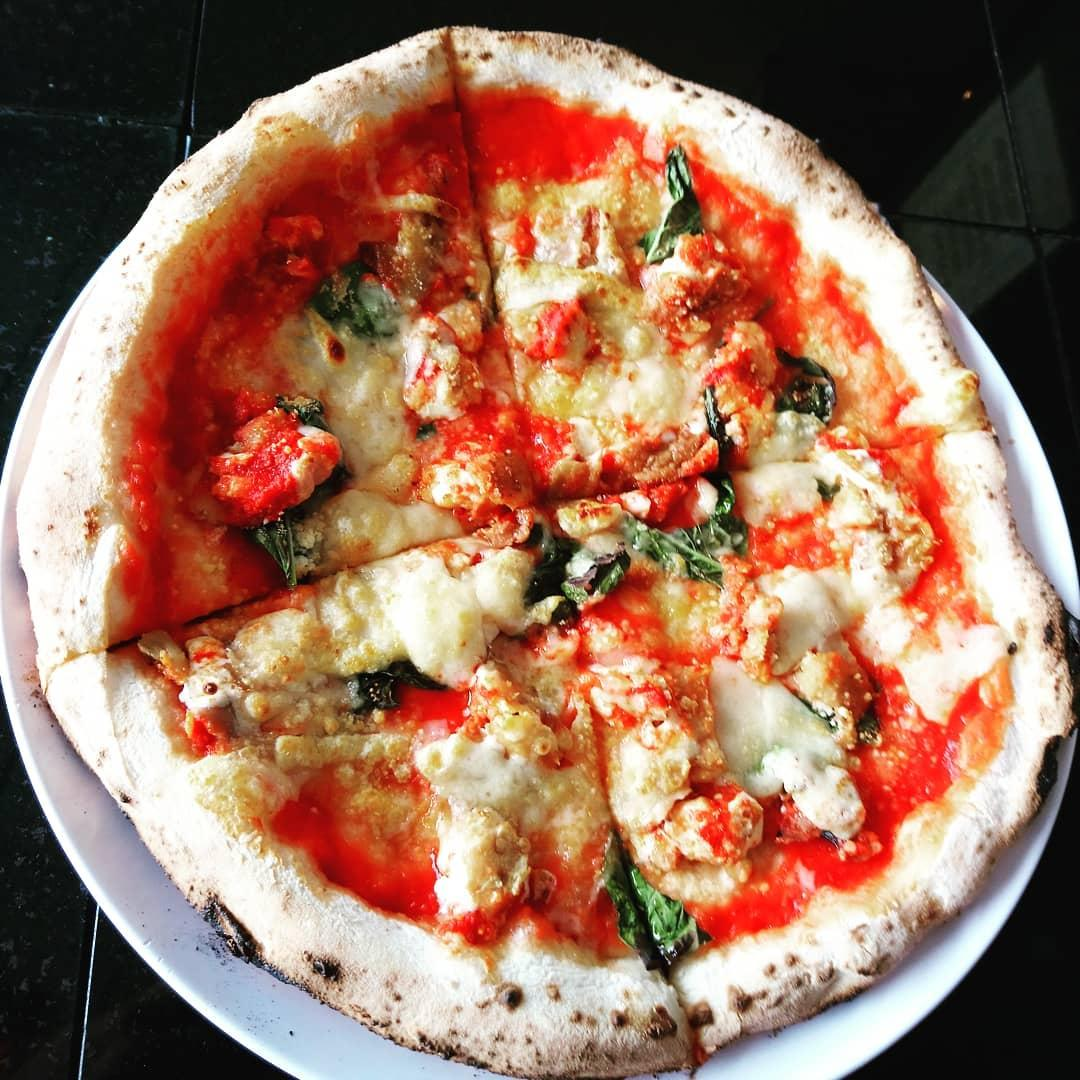Basil: (621, 477, 758, 590), (598, 838, 702, 971), (518, 516, 632, 623), (636, 130, 709, 268), (309, 242, 403, 341), (769, 338, 840, 438), (337, 654, 448, 716), (700, 380, 737, 476)
Cheese: (439, 747, 522, 908), (723, 690, 836, 793), (323, 572, 475, 648), (322, 348, 394, 452), (251, 630, 317, 712), (598, 362, 687, 421), (787, 585, 882, 618), (541, 200, 573, 293), (214, 760, 274, 797)
Pizza: (28, 38, 1063, 1035)
